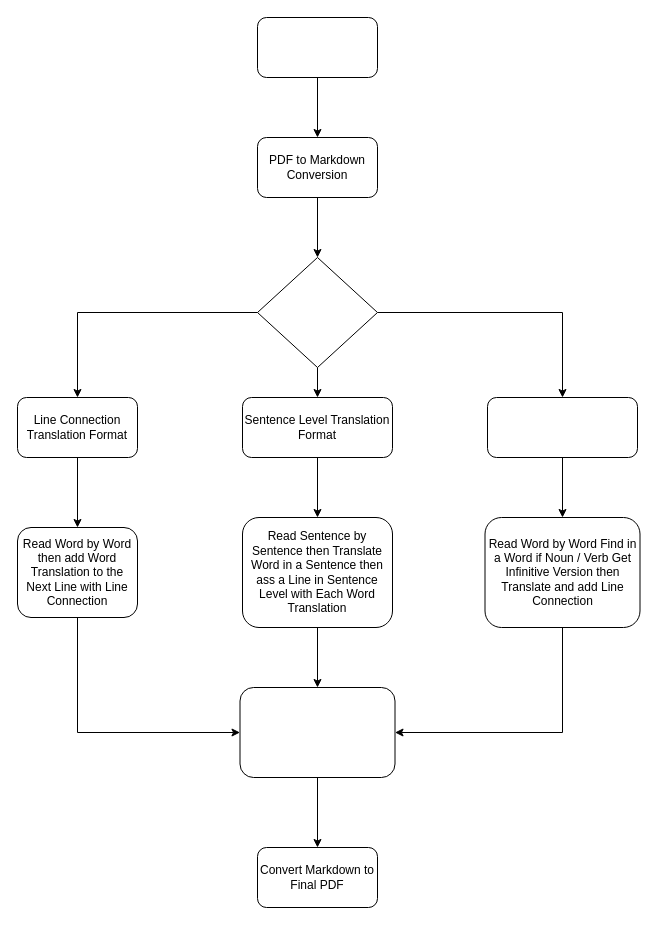
The diagram is 658 pixels wide and 925 high, and some of its shapes have lost their labels. The centre of each missing label's shape, as x and y in pixels:
"Nouns and Verbs Level Translation Format" goes at (x=562, y=427).
"Select Translation Format" goes at (x=317, y=312).
"Upload PDF with Translation Metadata" goes at (x=317, y=47).
"Write New Markdown file with new Translation Document" goes at (x=317, y=732).
